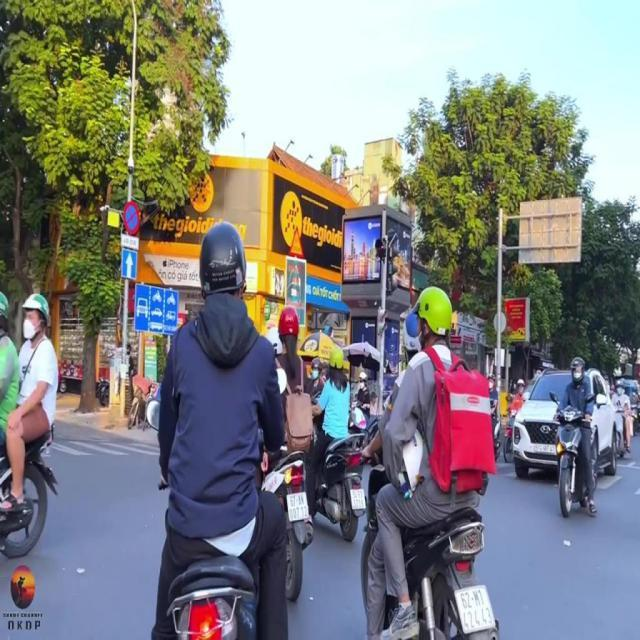130-cam-dung-va-do-xe: (124, 200, 140, 236)
407a-duong-mot-chieu: (122, 249, 138, 279)
